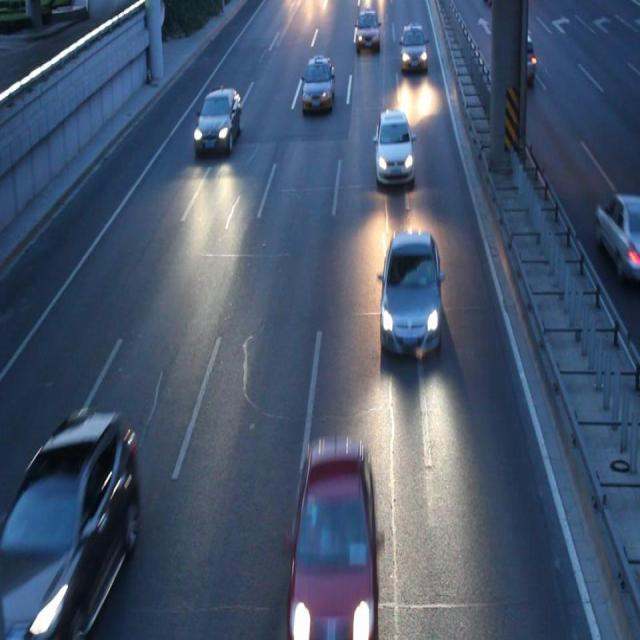car: (1, 411, 137, 640), (287, 442, 381, 640), (375, 230, 442, 358), (193, 88, 241, 155), (372, 110, 415, 183), (300, 55, 335, 112), (397, 22, 427, 73), (354, 10, 380, 52)
